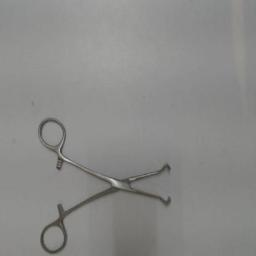Babcock Tissue Forceps: (36, 115, 174, 255)
